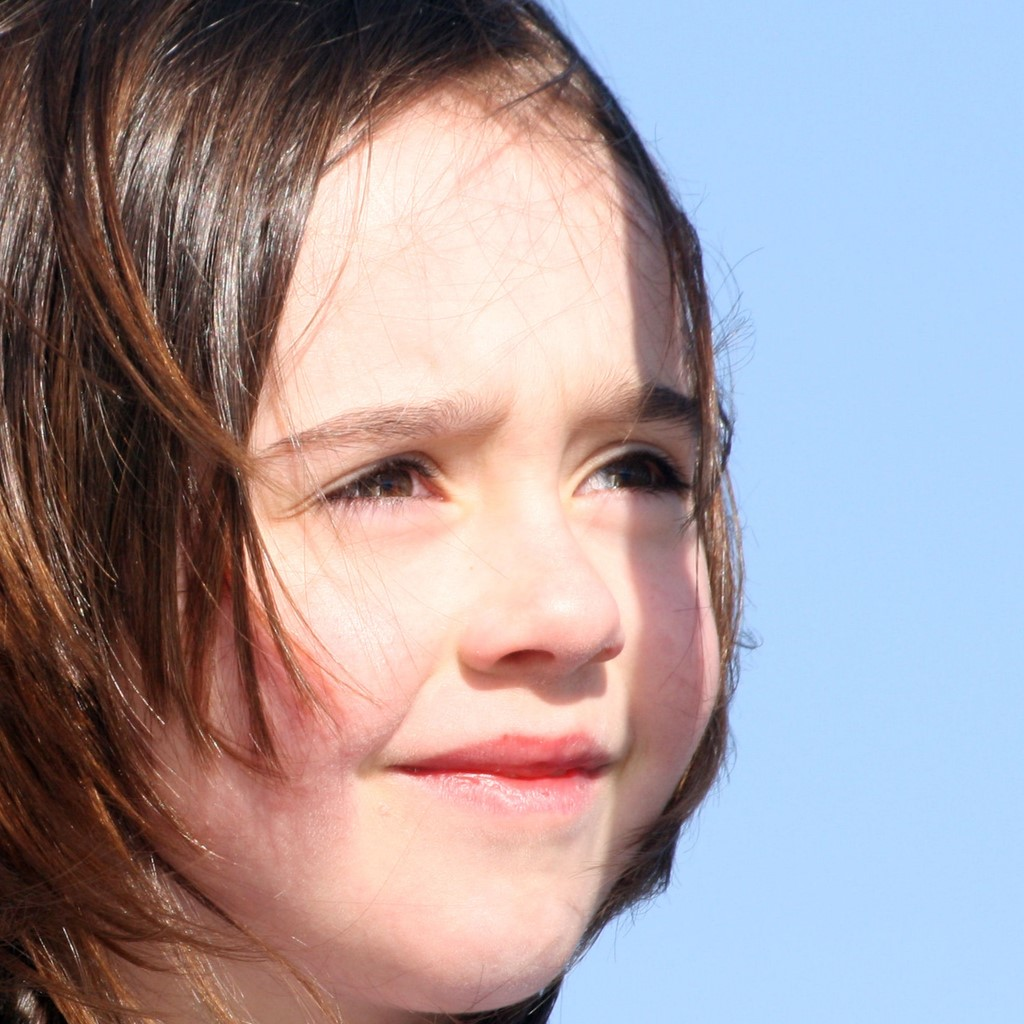sin_mascara: (49, 46, 729, 1012)
